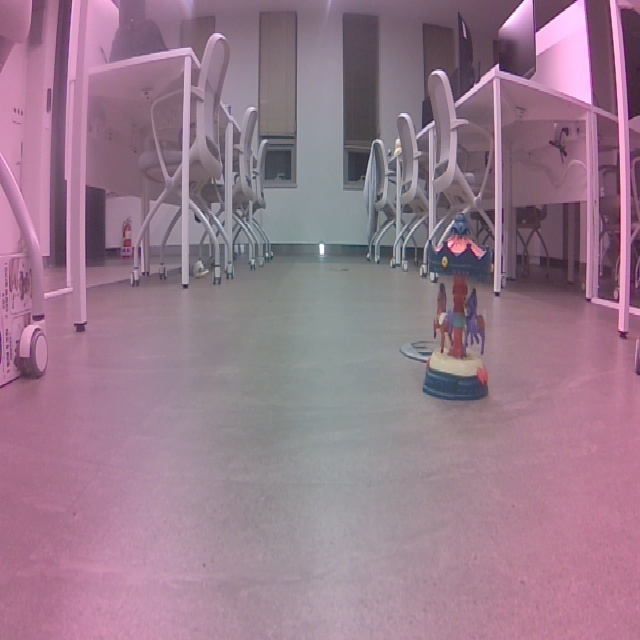목적지: (516, 191, 622, 382)
